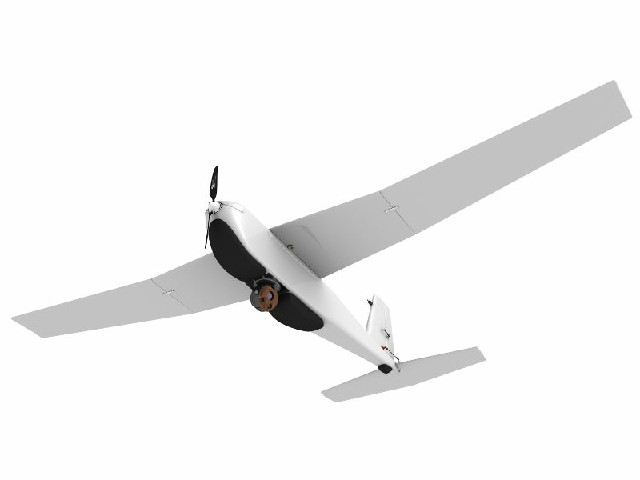maybay_khongnguoilai: (17, 92, 628, 406)
